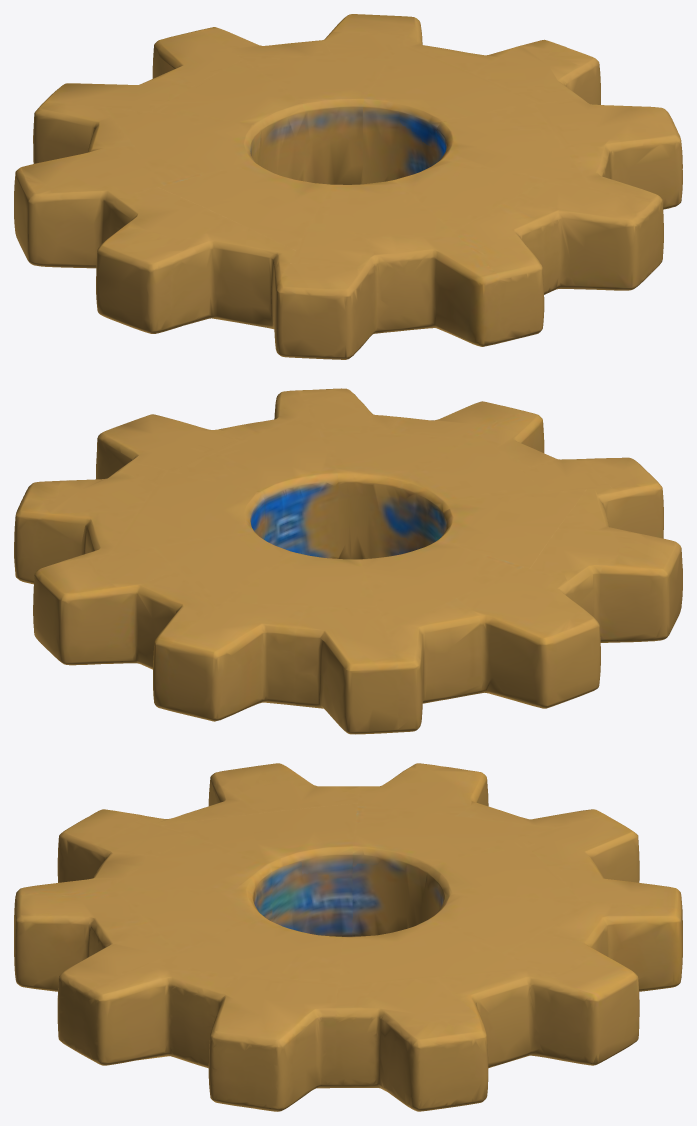
The model's file is ic-build.glb.
3 views of the same model, one above another, from view 1: azimuth 30°, elevation 25°; view 2: azimuth 150°, elevation 25°; view 3: azimuth 270°, elevation 25° (orthographic).
Parts seen in each view (by area): view 1: tripo_node_8d6df88e-931b-4545-990c-c71df52bd07a; view 2: tripo_node_8d6df88e-931b-4545-990c-c71df52bd07a; view 3: tripo_node_8d6df88e-931b-4545-990c-c71df52bd07a.
Boxes of the visible parts, x1,y1,x2,y2 form: tripo_node_8d6df88e-931b-4545-990c-c71df52bd07a: (14,14,682,359); tripo_node_8d6df88e-931b-4545-990c-c71df52bd07a: (14,388,682,734); tripo_node_8d6df88e-931b-4545-990c-c71df52bd07a: (14,763,682,1111).
Size of the model in its own units: 6.6 by 0.9994 by 6.6.
Materials: 1 (1 with a texture image).
